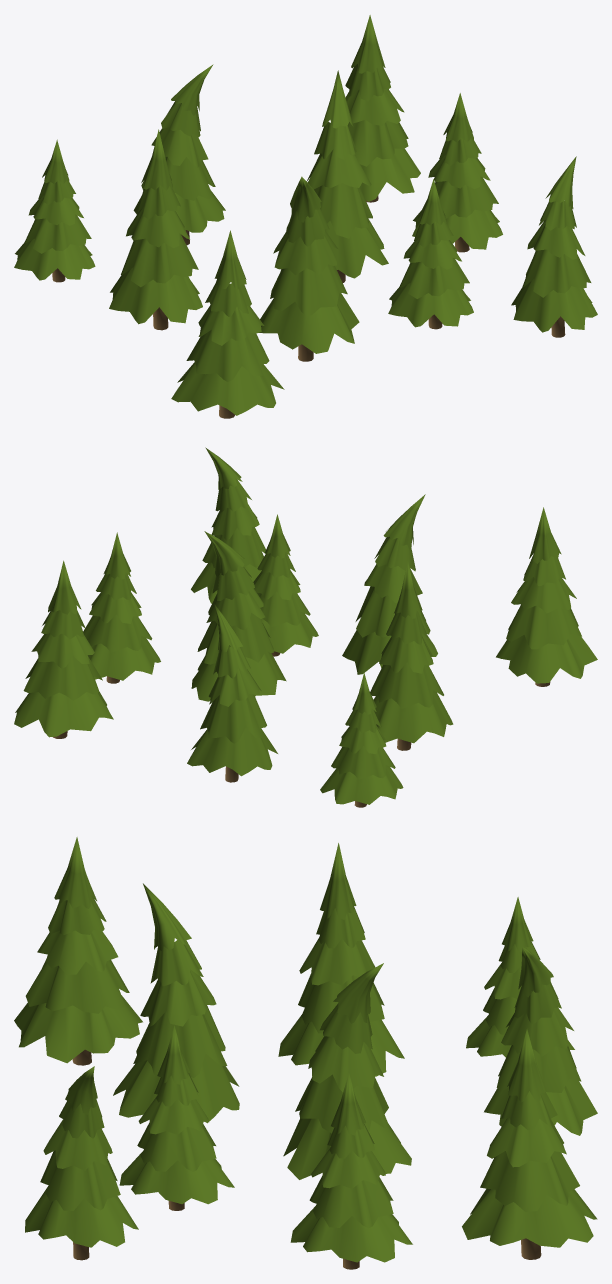
File: Pine Trees.glb
3 renders of one model, top to bottom at view 1: azimuth 30°, elevation 25°; view 2: azimuth 150°, elevation 25°; view 3: azimuth 270°, elevation 25°, orthographic. The views are drawn at different scales.
Parts seen in each view (by area): view 1: Resource_PineTree_Group; view 2: Resource_PineTree_Group; view 3: Resource_PineTree_Group.
Part boxes in pixels (box(x1,y1,x2,y2)): Resource_PineTree_Group: box(14, 15, 597, 418); Resource_PineTree_Group: box(14, 447, 597, 807); Resource_PineTree_Group: box(14, 837, 597, 1269).
Bounding box in the file's own units: 1.78 × 0.7882 × 1.73.
